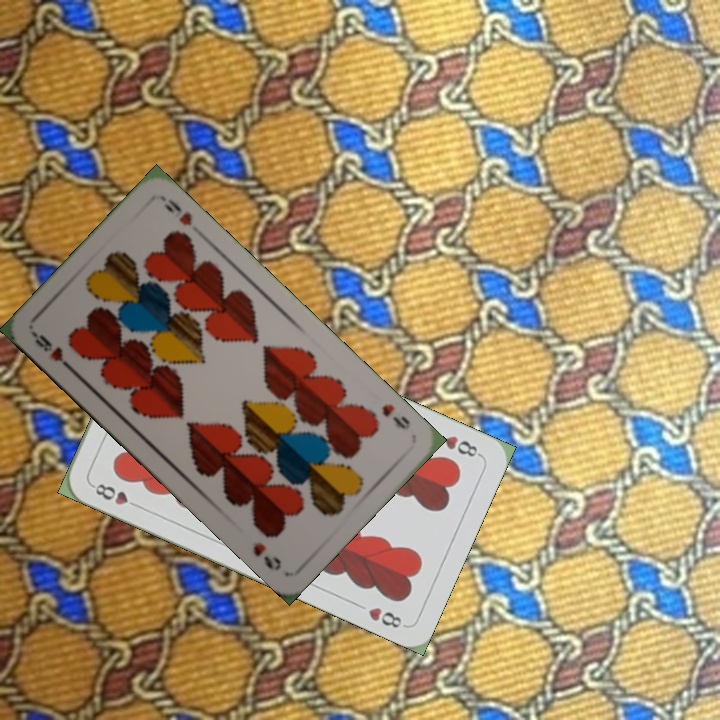H8: (87, 479, 144, 511), (440, 431, 484, 460)
H9: (29, 329, 77, 375), (377, 399, 413, 432)
